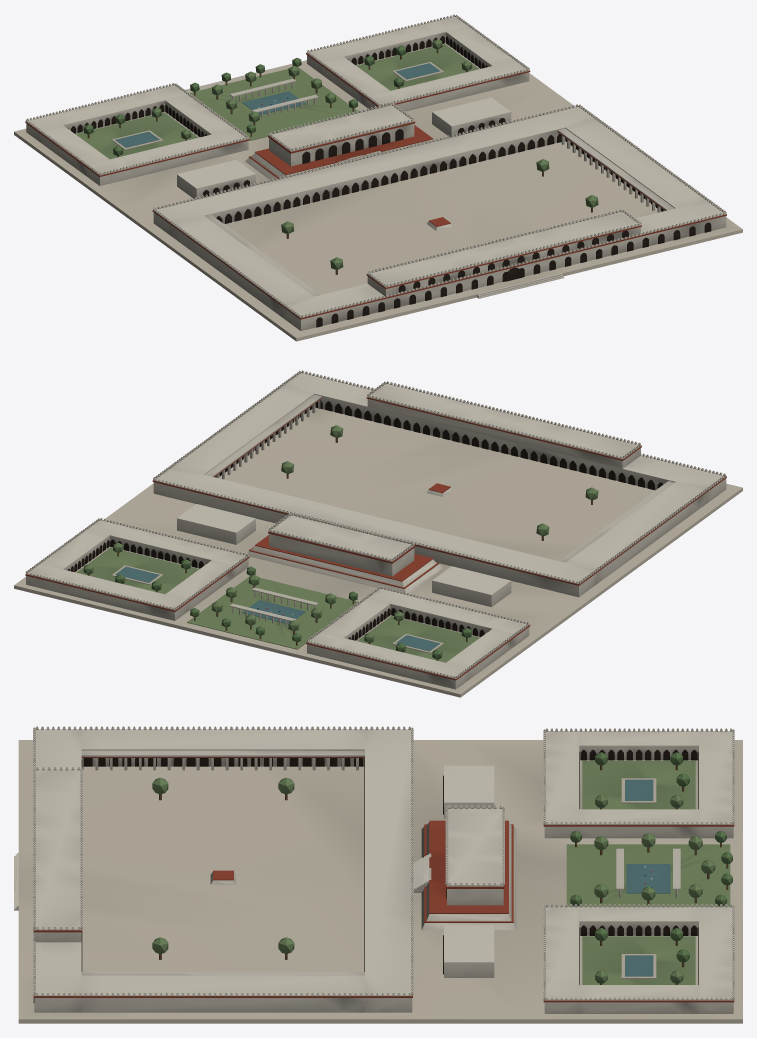
File: moctezuma-palace.glb
3 renders of one model, top to bottom at view 1: azimuth 30°, elevation 25°; view 2: azimuth 150°, elevation 25°; view 3: azimuth 270°, elevation 25°, orthographic. The views are drawn at different scales.
Parts seen in each view (by area): view 1: p2_halls, p0_platform, p1_courts; view 2: p2_halls, p0_platform, p1_courts; view 3: p0_platform, p2_halls, p1_courts.
Part boxes in pixels (<box>): p2_halls: <box>25,14,726,319</box>; p0_platform: <box>14,43,742,341</box>; p1_courts: <box>153,107,726,330</box>; p2_halls: <box>25,370,726,689</box>; p0_platform: <box>14,407,742,697</box>; p1_courts: <box>153,373,726,597</box>; p0_platform: <box>14,740,742,1023</box>; p2_halls: <box>33,726,734,1013</box>; p1_courts: <box>33,729,516,1012</box>.
Bounding box in the file's own units: 210 × 13.99 × 232.
